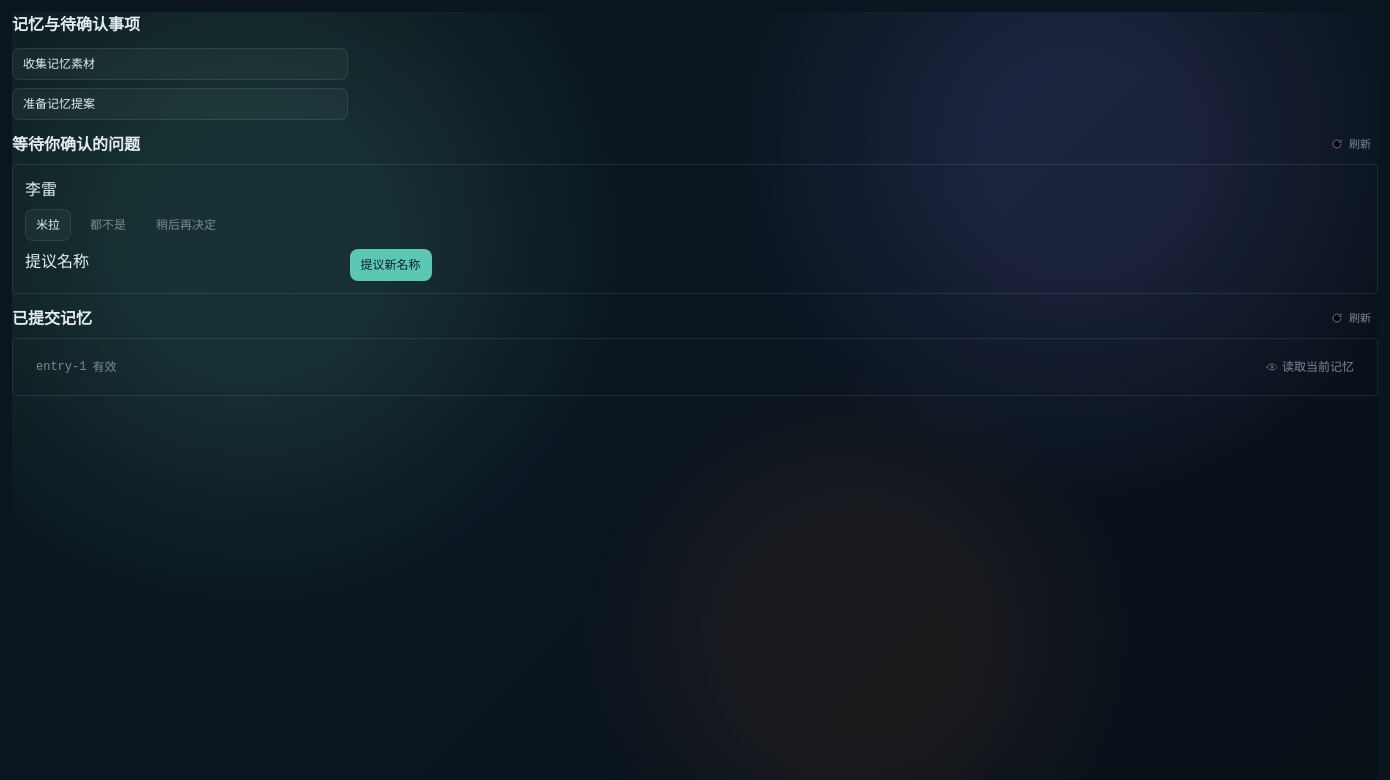
MemoryQueryPanel › answers with the displayed candidate and reads the selected committed version
Click the button "米拉". click: (48, 225)
box: [25, 209, 71, 241]
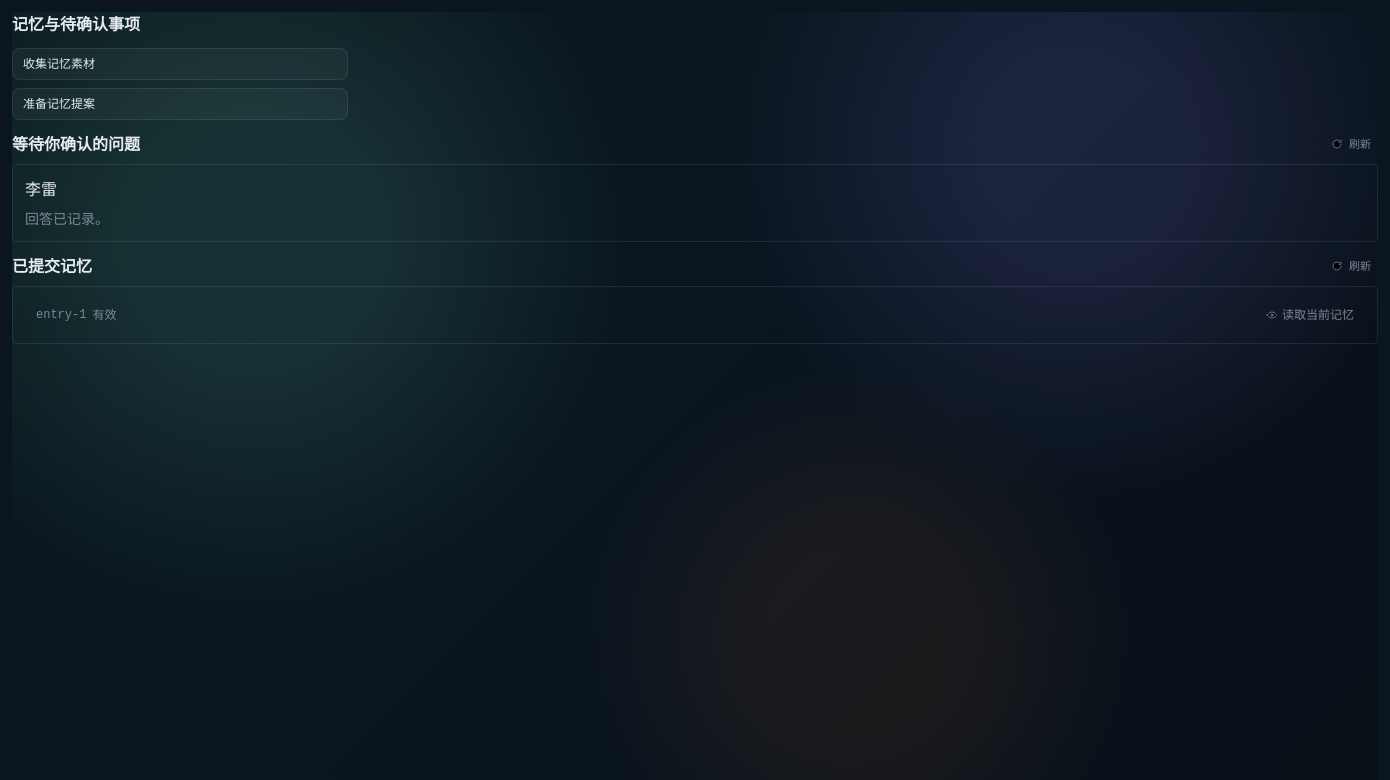
Click the button "entry-1 有效 读取当前记忆". click: (61, 315)
box: [25, 299, 1365, 331]
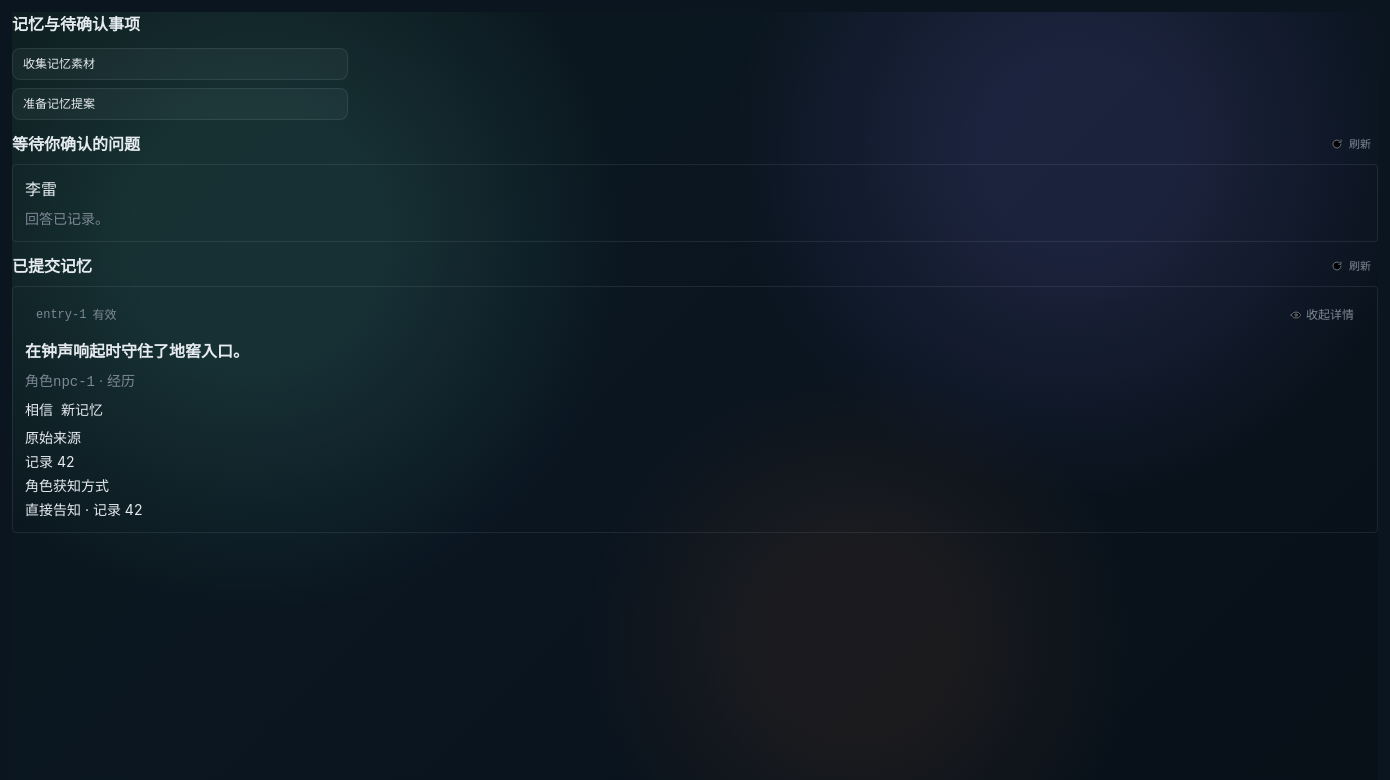
Expected: the button "entry-1 有效 收起详情" is expanded
Expected: the element that starts with "entry-1" shows "在钟声响起时守住了地窖入口。", [25, 341, 249, 361]
Expected: the element that starts with "entry-1" shows "角色", [25, 372, 53, 389]
Click the button "entry-1 有效 收起详情". click: (61, 315)
box: [25, 299, 1365, 331]
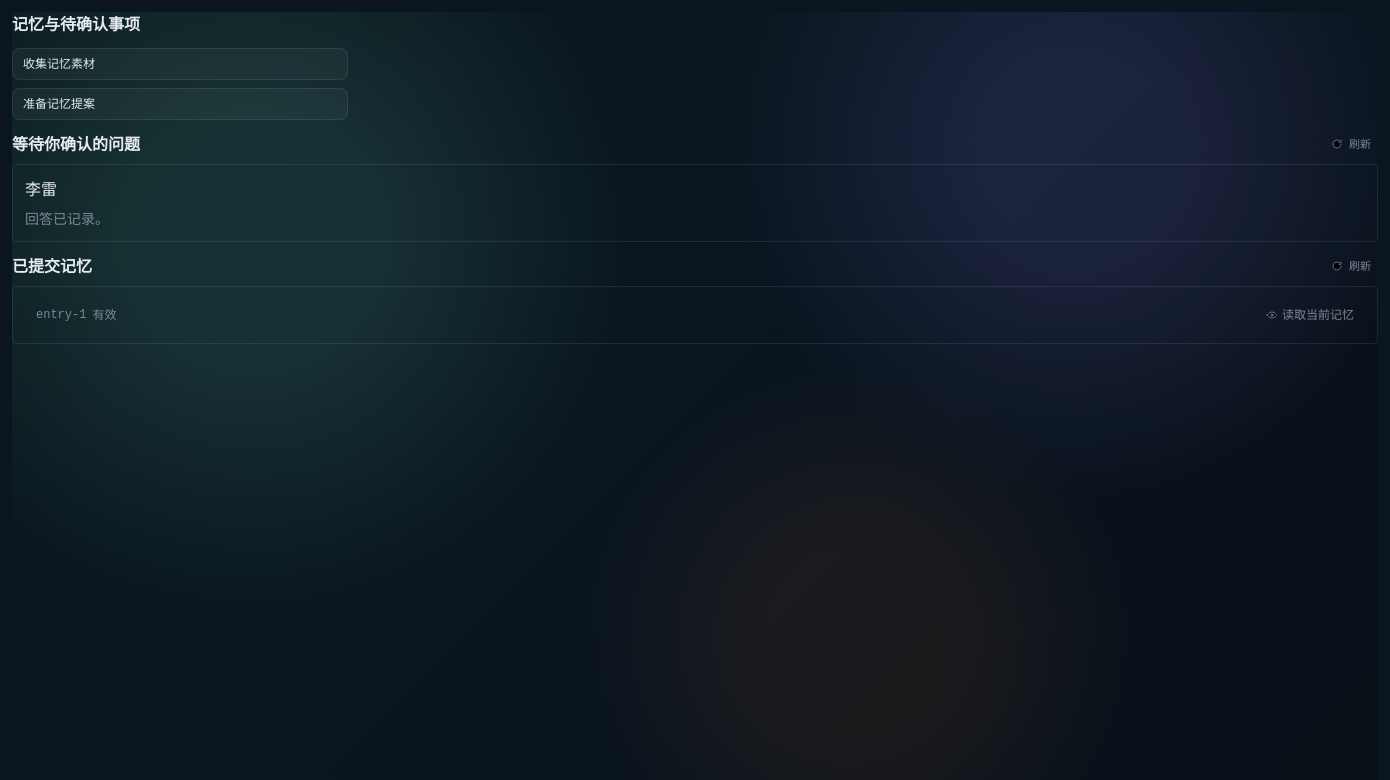
Expected: the button "entry-1 有效 读取当前记忆" is collapsed, [25, 299, 1365, 331]
Expected: the heading "在钟声响起时守住了地窖入口。" no longer shows "在钟声响起时守住了地窖入口。"
